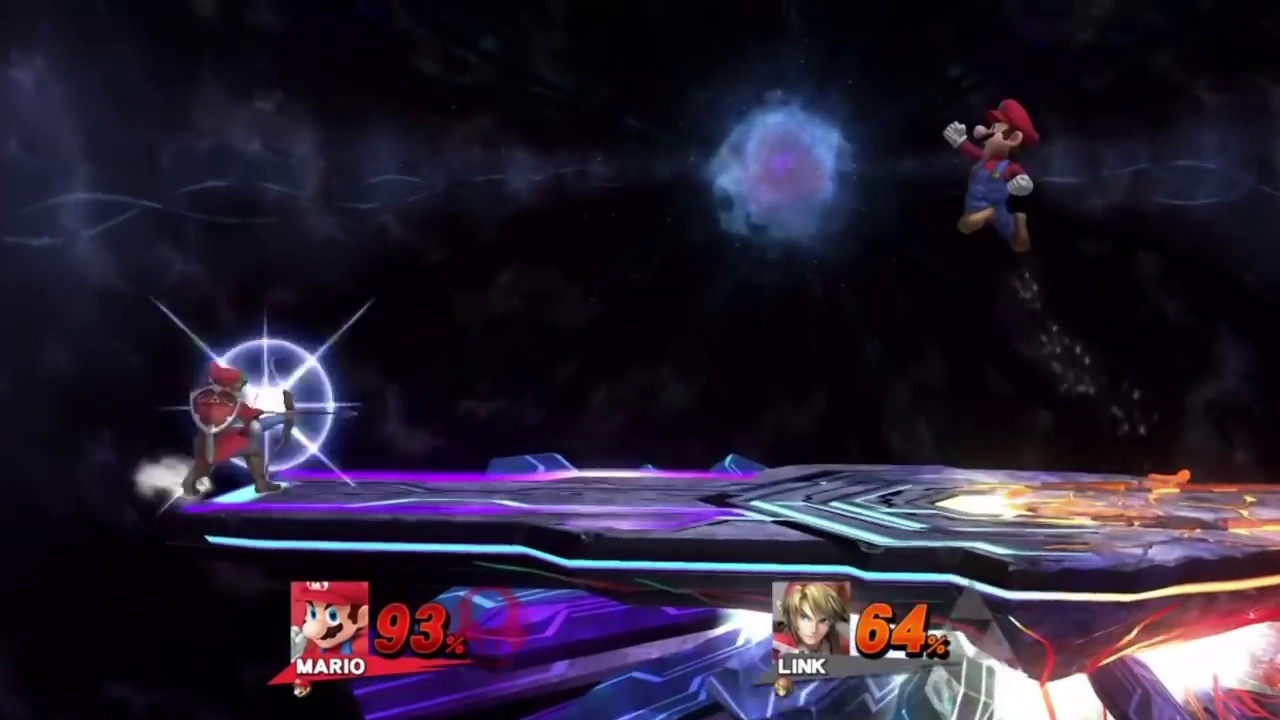Mario: (942, 99, 1040, 260)
